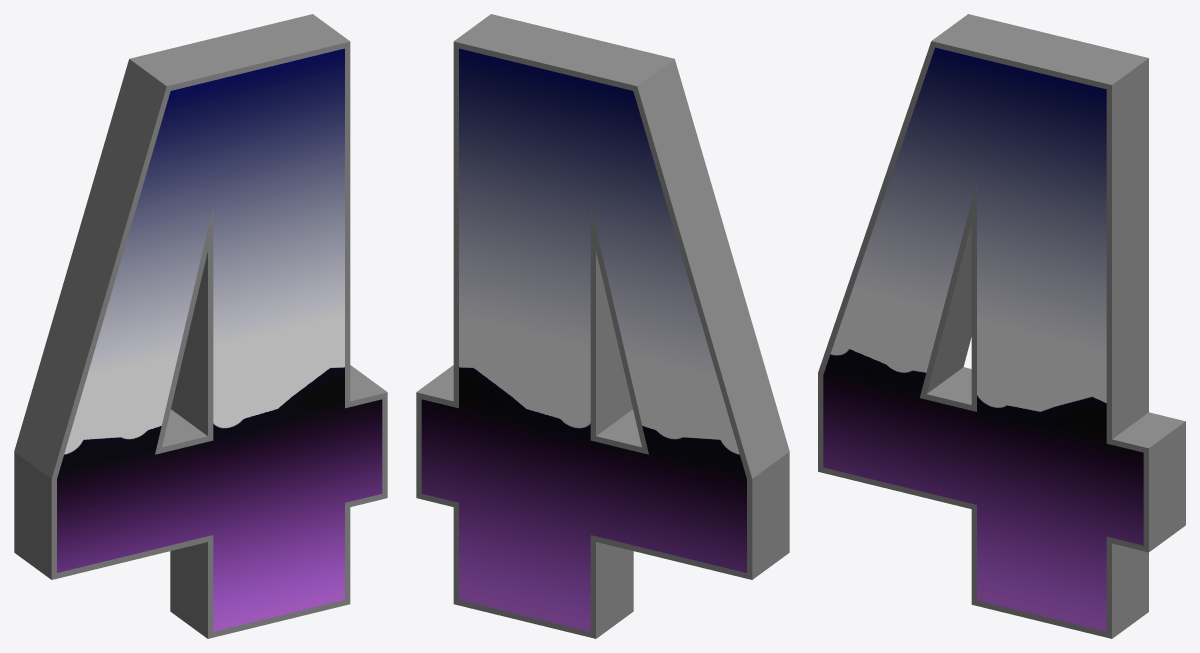
The picture shows the model from 3 angles, left to right: view 1: azimuth 30°, elevation 25°; view 2: azimuth 150°, elevation 25°; view 3: azimuth 330°, elevation 25°; orthographic projection.
Parts seen in each view (by area): view 1: 4, 4_outline; view 2: 4, 4_outline; view 3: 4, 4_outline.
Part boxes in pixels (left/top/right/bottom): 4: left=57, top=48, right=382, bottom=631; 4_outline: left=14, top=14, right=387, bottom=638; 4: left=421, top=48, right=746, bottom=631; 4_outline: left=416, top=14, right=789, bottom=638; 4: left=823, top=47, right=1143, bottom=631; 4_outline: left=818, top=14, right=1185, bottom=638.
Bounding box in the file's own units: 62 × 99.2 × 12.
2 materials, 1 textured.
